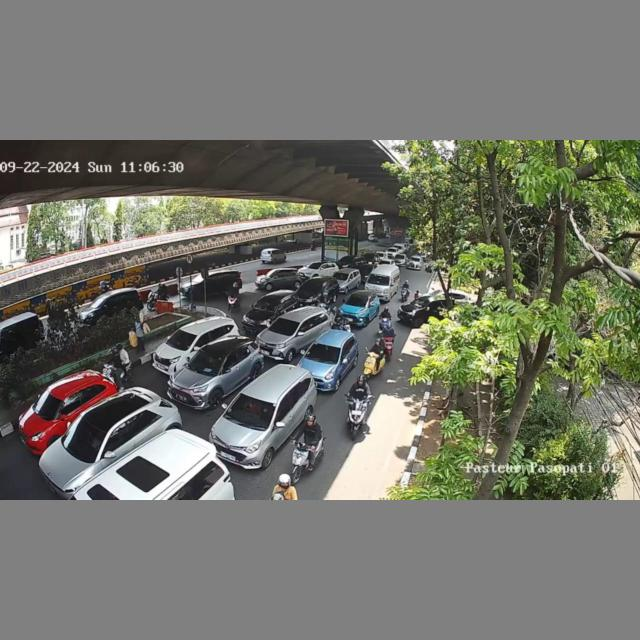windshield: (226, 395, 280, 427), (66, 417, 107, 458), (188, 351, 223, 375), (307, 342, 341, 363), (37, 389, 62, 417), (266, 317, 298, 337), (164, 328, 195, 347), (252, 299, 279, 312), (344, 296, 367, 308), (368, 274, 391, 286)
